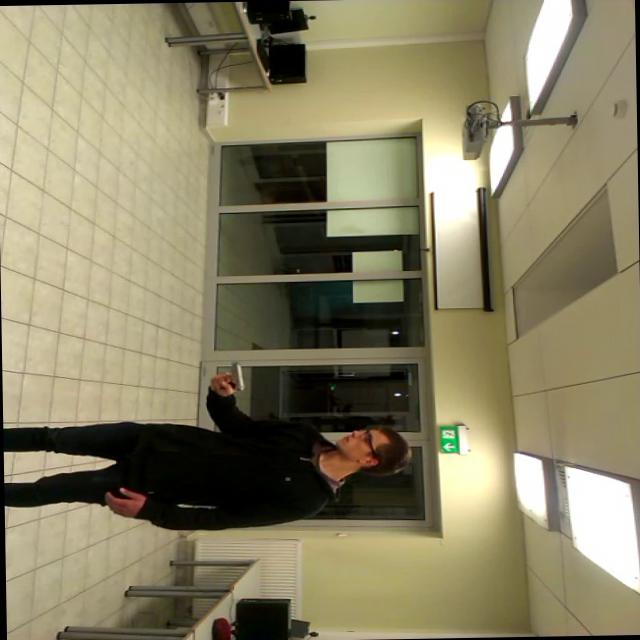handgun: (205, 358, 255, 401)
